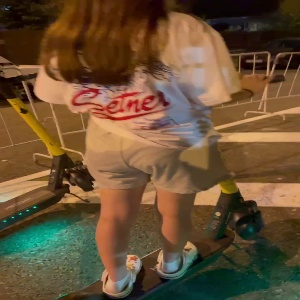human on a scooter: (1, 1, 287, 300)
